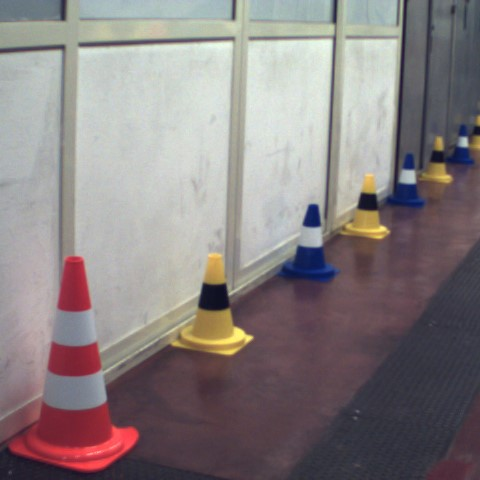cone: (281, 202, 336, 283), (390, 152, 424, 211), (450, 124, 473, 164)
